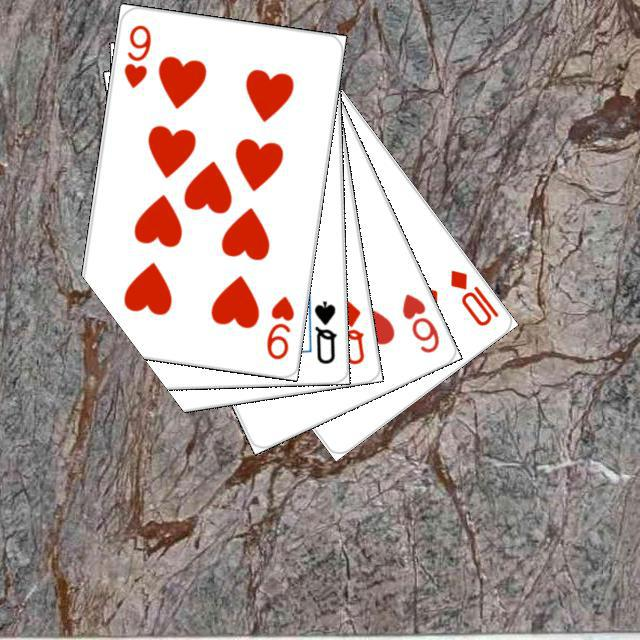10d: (444, 264, 501, 328)
6h: (397, 288, 441, 355)
9h: (261, 290, 296, 361), (119, 19, 153, 90)
Qd: (333, 296, 366, 366)
Qs: (309, 296, 339, 365)
